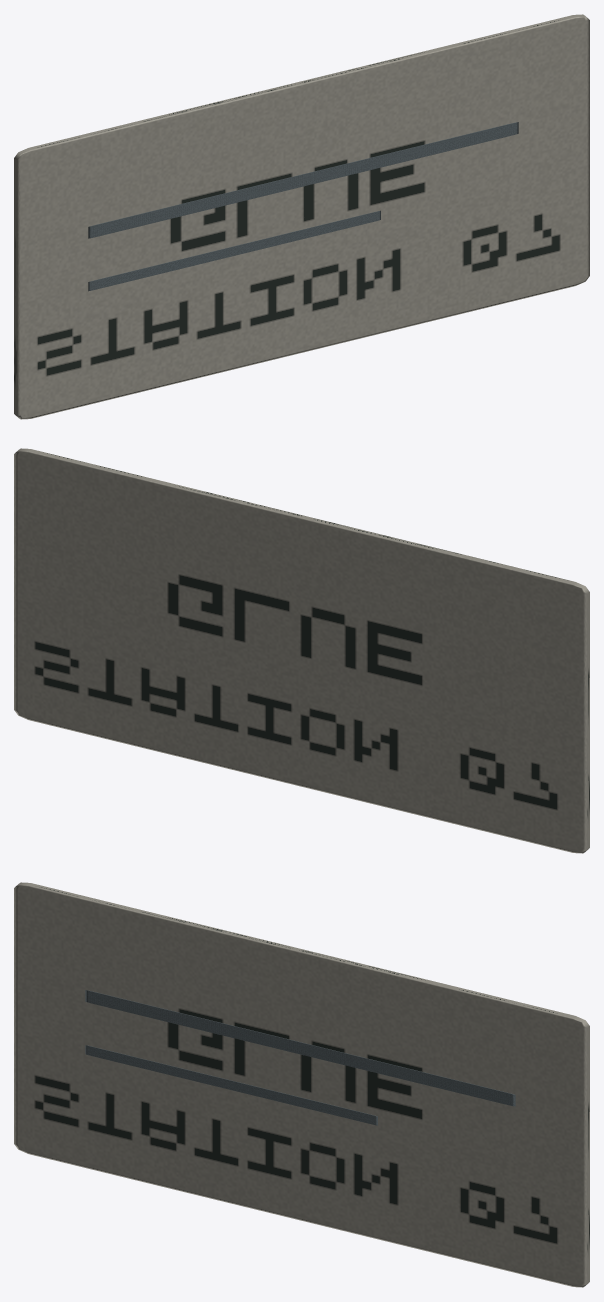
The model's file is glue.glb.
3 views of the same model, one above another, from view 1: azimuth 30°, elevation 25°; view 2: azimuth 150°, elevation 25°; view 3: azimuth 330°, elevation 25° (orthographic).
Parts seen in each view (by area): view 1: board, stripe, line; view 2: board; view 3: board, stripe, line.
Boxes of the visible parts, box(x1,y1,x2,y2) form: board: box(14, 14, 589, 419); stripe: box(88, 122, 518, 238); line: box(88, 210, 380, 291); board: box(14, 448, 589, 853); board: box(14, 882, 589, 1287); stripe: box(85, 990, 515, 1106); line: box(85, 1045, 377, 1125).
Size of the model in its own units: 0.078 by 0.035 by 0.00068.
Materials: 2 (2 with a texture image).
